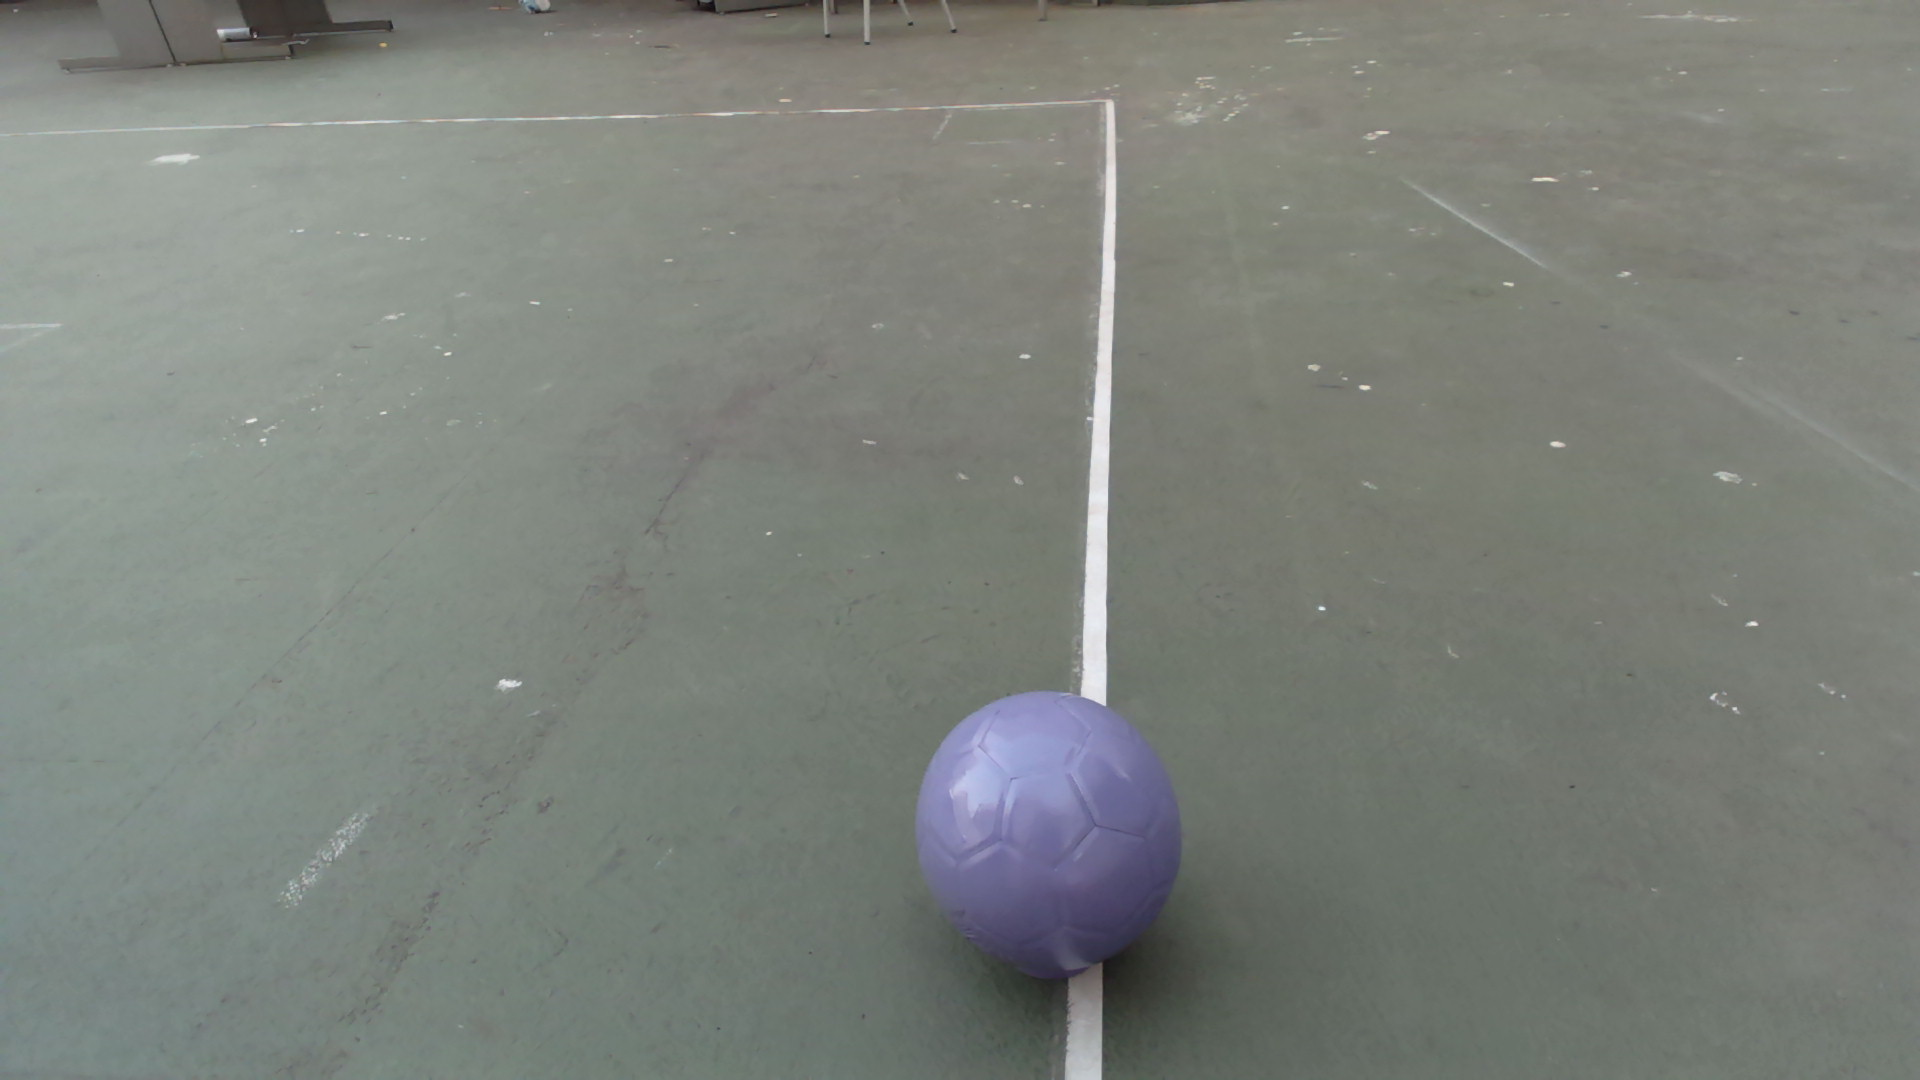Purple ball: (910, 690, 1187, 980)
